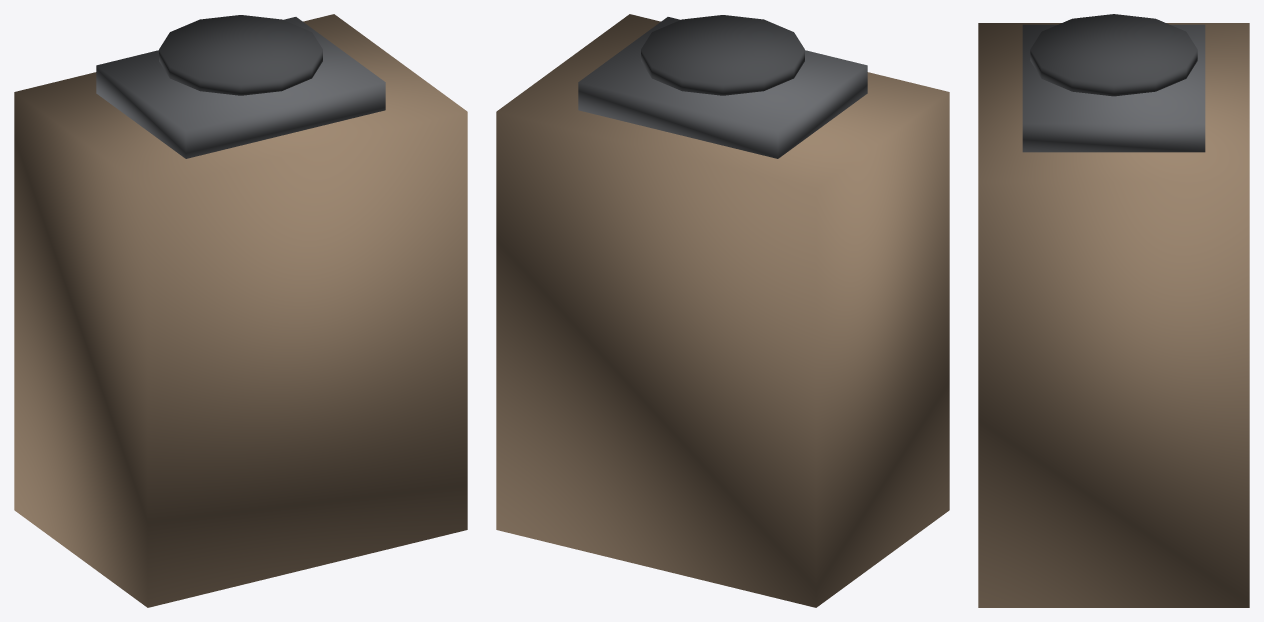
Rendered from record_store_listening_station.glb.
3 renders of one model, left to right at view 1: azimuth 30°, elevation 25°; view 2: azimuth 150°, elevation 25°; view 3: azimuth 270°, elevation 25°, orthographic.
Parts seen in each view (by area): view 1: world; view 2: world; view 3: world.
Boxes of the visible parts, left/top/right/bottom form: world: left=14, top=14, right=467, bottom=607; world: left=496, top=14, right=949, bottom=607; world: left=978, top=14, right=1249, bottom=607.
Size of the model in its own units: 0.72 by 1.01 by 0.52.
